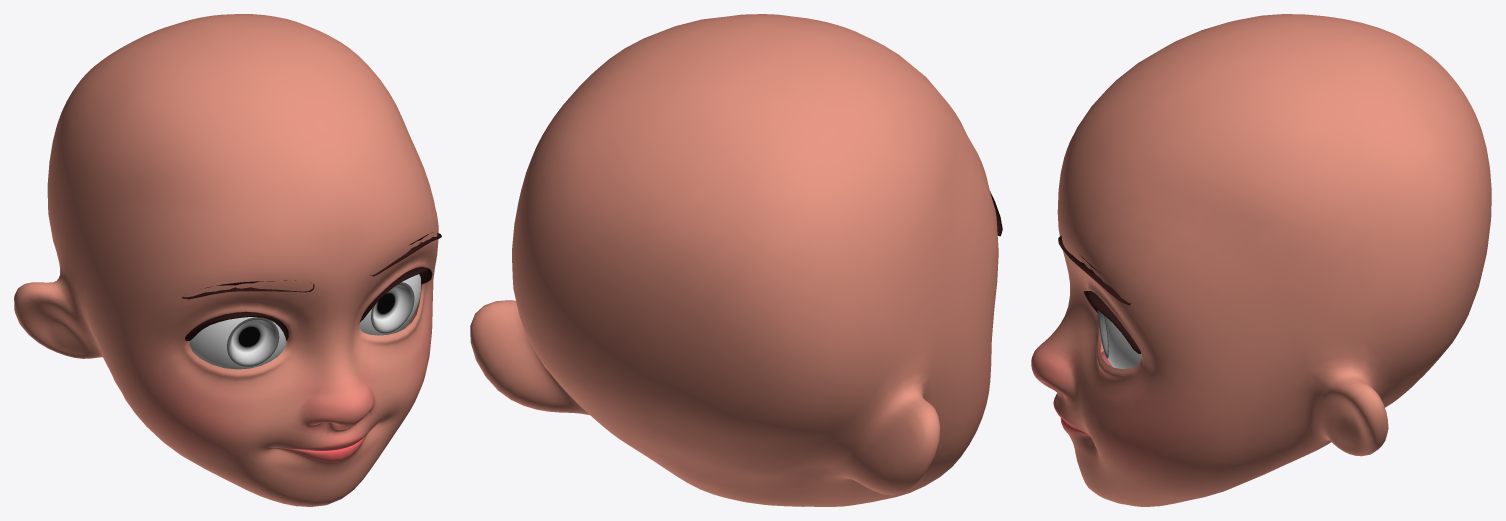
3 views of the same model, side by side, from view 1: azimuth 30°, elevation 25°; view 2: azimuth 150°, elevation 25°; view 3: azimuth 270°, elevation 25° (orthographic). The views are drawn at different scales.
Visible parts, largest first — view 1: skin, eyes, lashes, brows; view 2: skin; view 3: skin, eyes, lashes, brows.
Part boxes in pixels (x1,y1,x2,y2): skin: [14, 14, 438, 506]; eyes: [189, 274, 420, 369]; lashes: [185, 267, 432, 340]; brows: [182, 232, 441, 299]; skin: [470, 14, 998, 506]; skin: [1031, 14, 1491, 506]; eyes: [1097, 310, 1141, 369]; lashes: [1084, 291, 1140, 353]; brows: [1058, 235, 1130, 305].
Bounding box in the file's own units: 1.92 × 2 × 1.83.
Materials: 9 (2 with a texture image).
